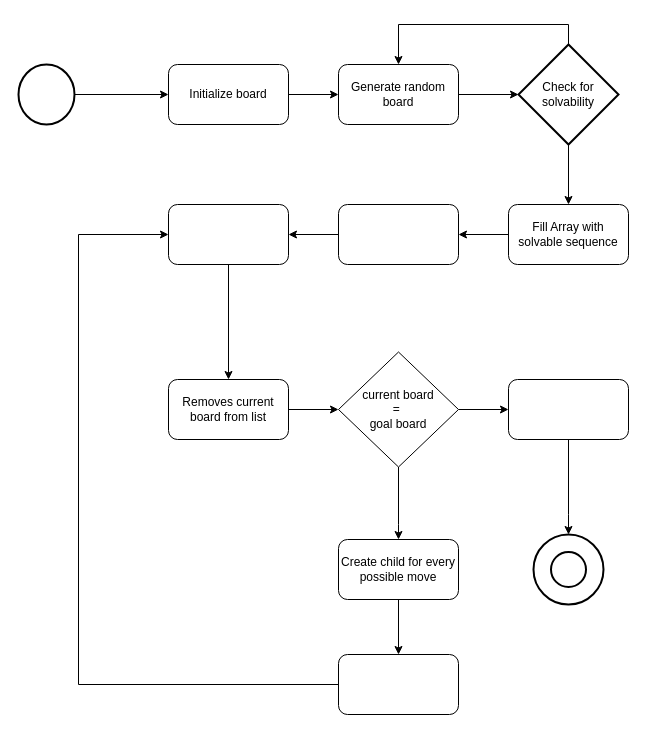
The diagram is 646 pixels wide and 732 high, and some of its shapes have lost their labels. Here are the shapes that lost their labels. From the top down, the centre of each, then its label:
At point (228, 234): "Order board list based on costs".
At point (398, 234): "Add board to board list".
At point (568, 409): "store path".
At point (398, 684): "add children to board list that haven´t been checked before".
